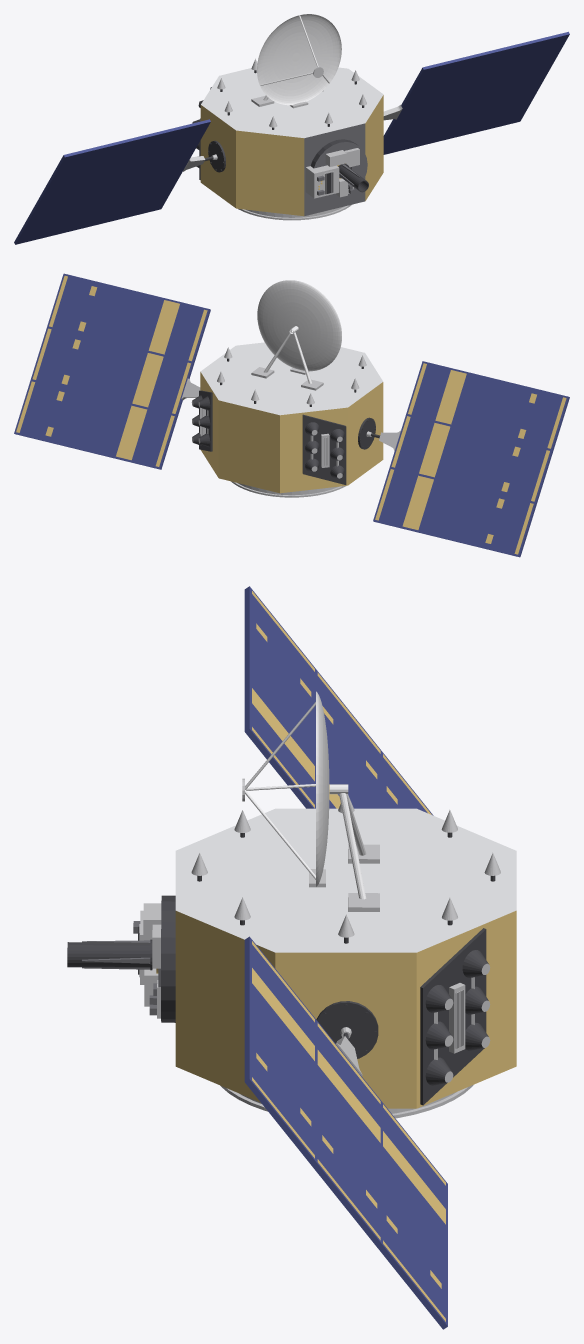
The model's file is dscovr.glb.
The picture shows the model from 3 angles, top to bottom: view 1: azimuth 30°, elevation 25°; view 2: azimuth 150°, elevation 25°; view 3: azimuth 270°, elevation 25°; orthographic projection. The views are drawn at different scales.
Visible parts, largest first — view 1: Layer_0; view 2: Layer_0; view 3: Layer_0.
Part boxes in pixels (bbox=[...]): Layer_0: bbox=[14, 14, 569, 244]; Layer_0: bbox=[14, 273, 569, 557]; Layer_0: bbox=[67, 586, 516, 1329].
Size of the model in its own units: 266 by 96.41 by 103.
